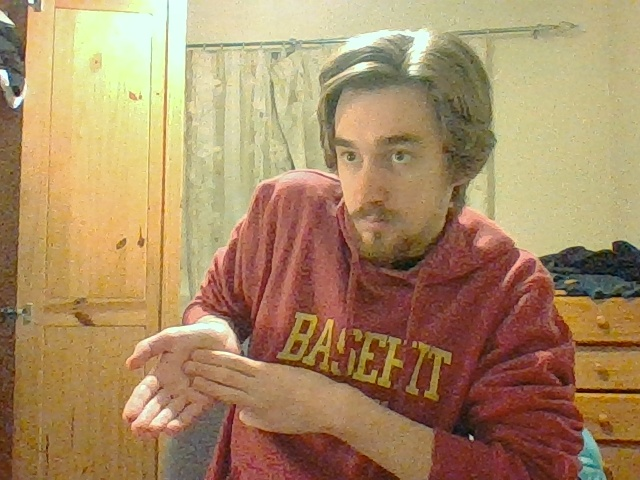mother: (122, 320, 257, 436)
